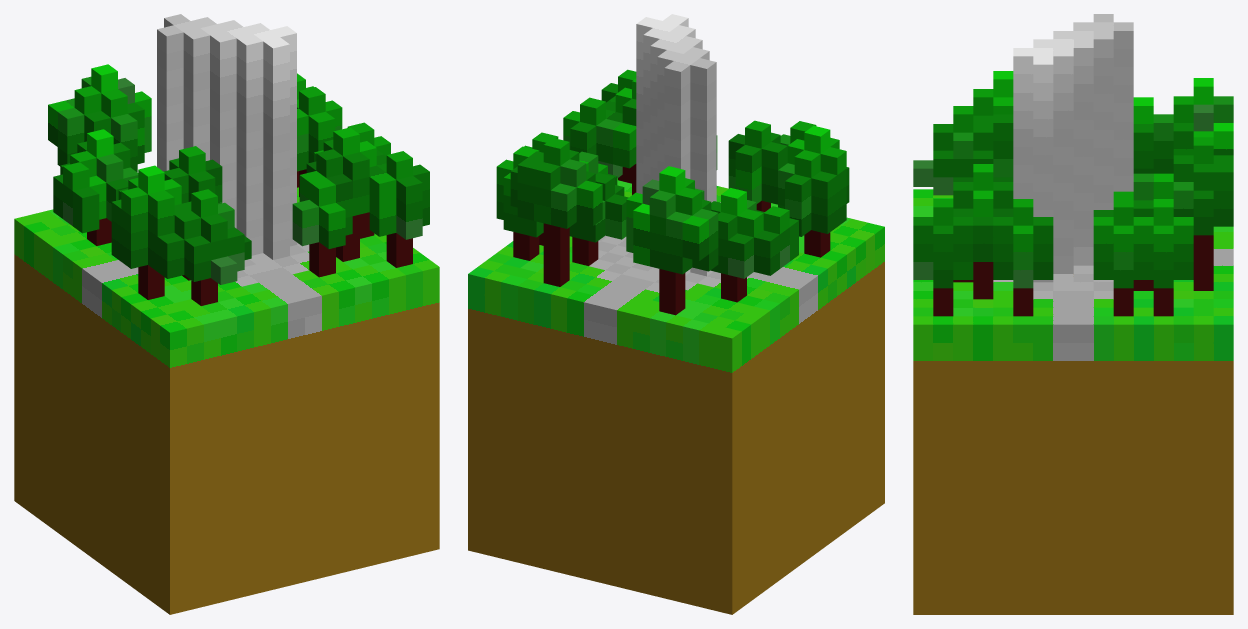
Rendered from monument_of_peace.gltf.
3 renders of one model, left to right at view 1: azimuth 30°, elevation 25°; view 2: azimuth 150°, elevation 25°; view 3: azimuth 270°, elevation 25°, orthographic. The views are drawn at different scales.
Visible parts, largest first — view 1: Content-Mesh; view 2: Content-Mesh; view 3: Content-Mesh.
Part boxes in pixels (x1,y1,x2,y2): Content-Mesh: (14, 14, 439, 614); Content-Mesh: (468, 14, 884, 614); Content-Mesh: (913, 14, 1233, 614).
Size of the model in its own units: 16 by 28 by 16.
Materials: 1 (1 with a texture image).
